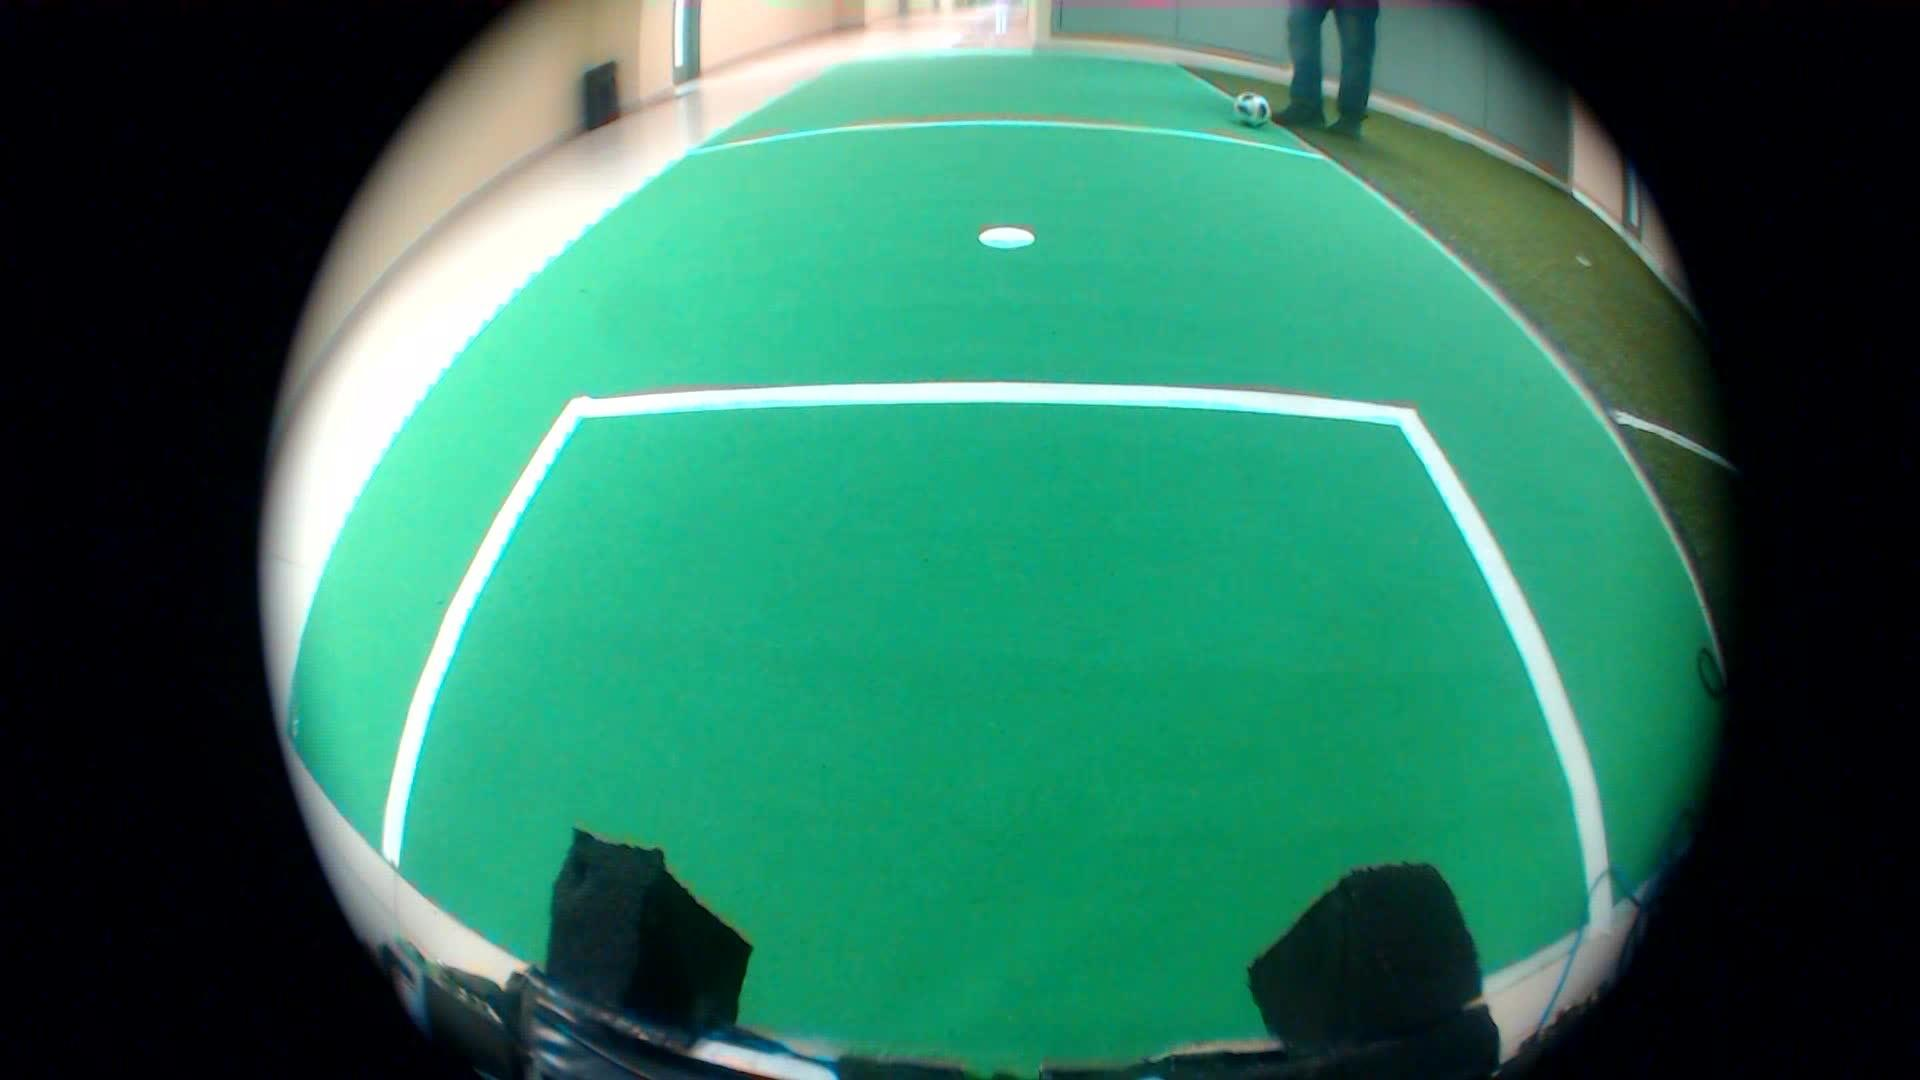ball: (1221, 83, 1265, 135)
